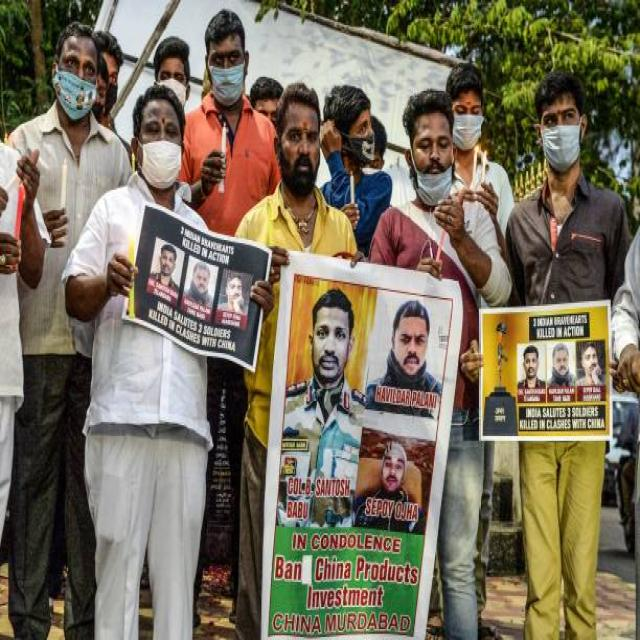civilian: (63, 83, 221, 638), (370, 89, 508, 638), (9, 24, 129, 638), (235, 83, 358, 638), (506, 71, 630, 303), (181, 9, 278, 234), (445, 64, 513, 303), (520, 444, 601, 638), (320, 85, 391, 256)
